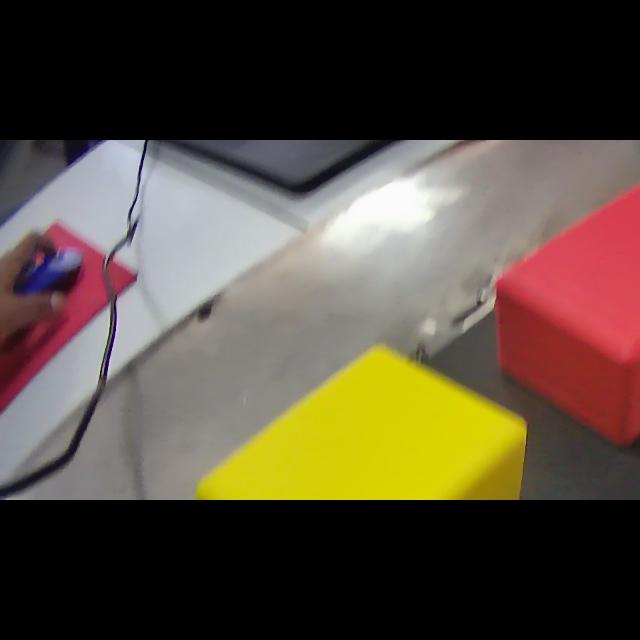redBox: (490, 181, 640, 453)
yellowBox: (192, 338, 532, 500)
